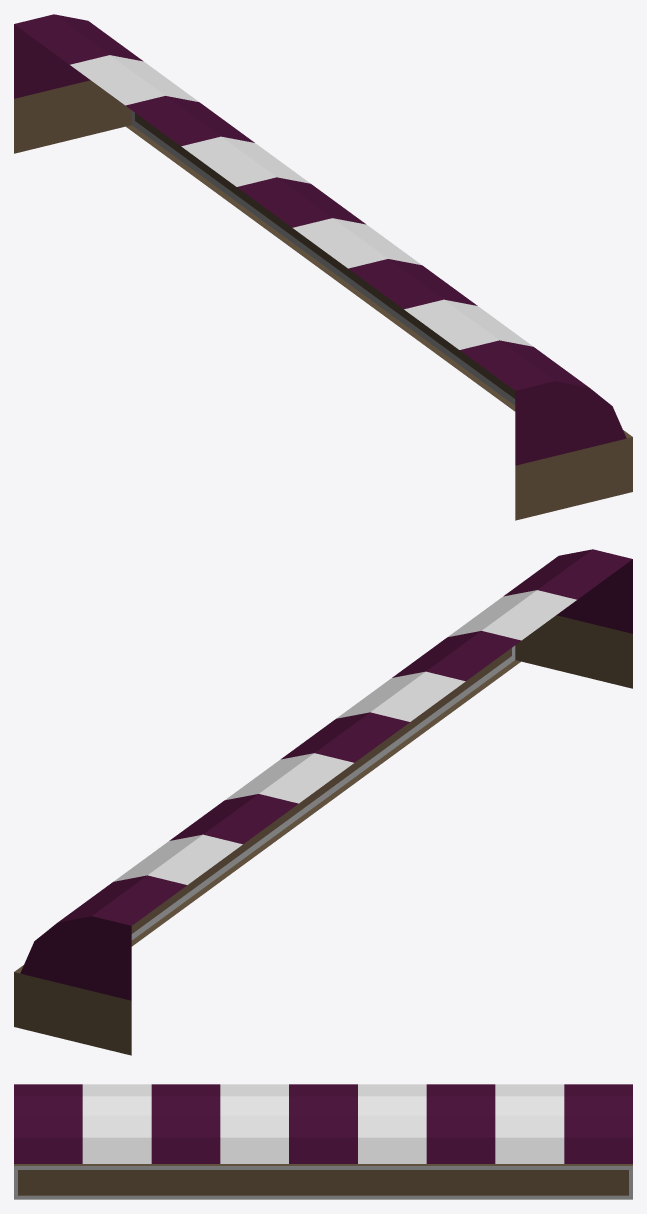
The model's file is SM_shopCanopy_02.gltf.
3 views of the same model, one above another, from view 1: azimuth 30°, elevation 25°; view 2: azimuth 150°, elevation 25°; view 3: azimuth 270°, elevation 25° (orthographic). The views are drawn at different scales.
Visible parts, largest first — view 1: SM_shopCanopy_02; view 2: SM_shopCanopy_02; view 3: SM_shopCanopy_02.
Part boxes in pixels (<box>): SM_shopCanopy_02: <box>14,14,632,520</box>; SM_shopCanopy_02: <box>14,549,632,1055</box>; SM_shopCanopy_02: <box>14,1084,632,1199</box>.
Bounding box in the file's own units: 0.95 × 1 × 7.
3 materials, 1 textured.
